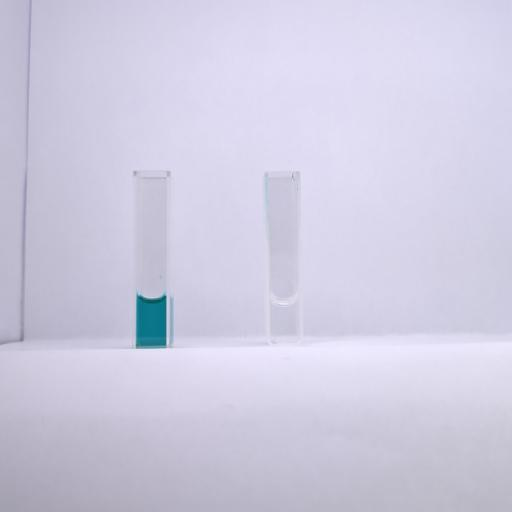cuvette: (131, 168, 173, 352), (263, 169, 305, 351)
liquid: (136, 296, 167, 349), (270, 298, 299, 342)
